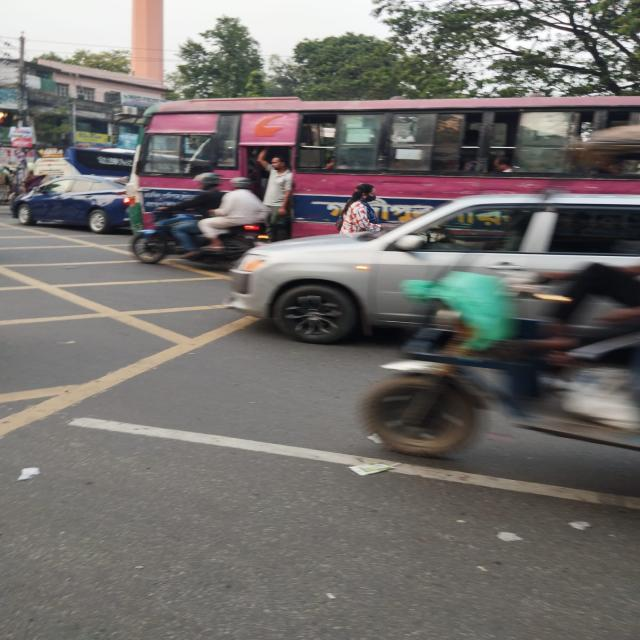person: (336, 183, 384, 236)
